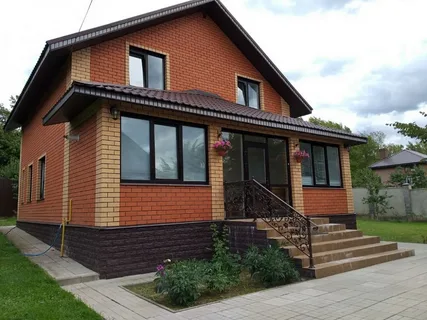private_hause: (27, 11, 330, 258)
